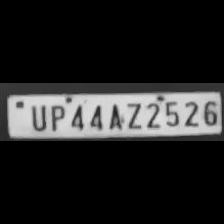2: (142, 100, 160, 128), (181, 99, 199, 127)
4: (66, 102, 86, 131), (86, 102, 104, 130)
5: (160, 98, 180, 128)
6: (200, 98, 220, 127)
A: (104, 100, 122, 130)
P: (46, 102, 66, 131)
U: (26, 102, 48, 131)
Z: (122, 100, 142, 128)
